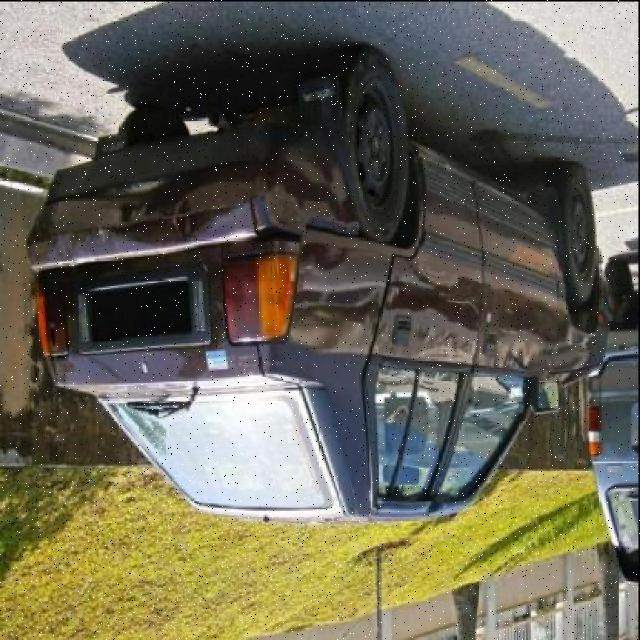damage: (98, 158, 263, 255)
